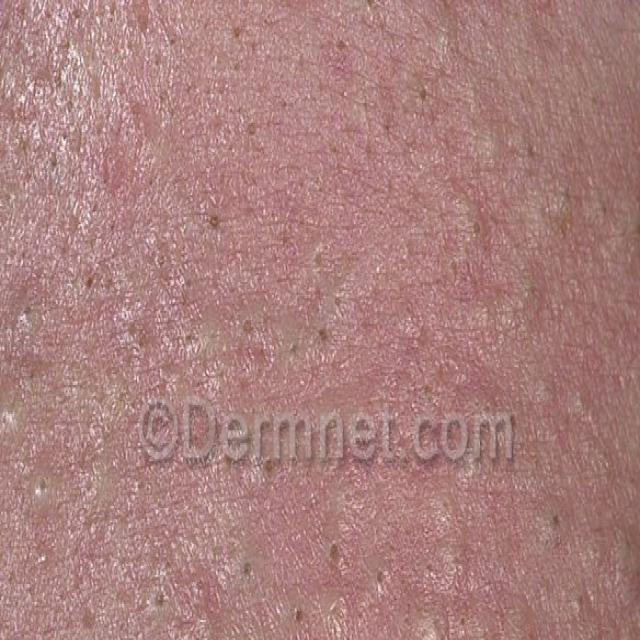Acne: (423, 4, 640, 400), (215, 479, 640, 640), (106, 188, 388, 400), (0, 235, 75, 606)
